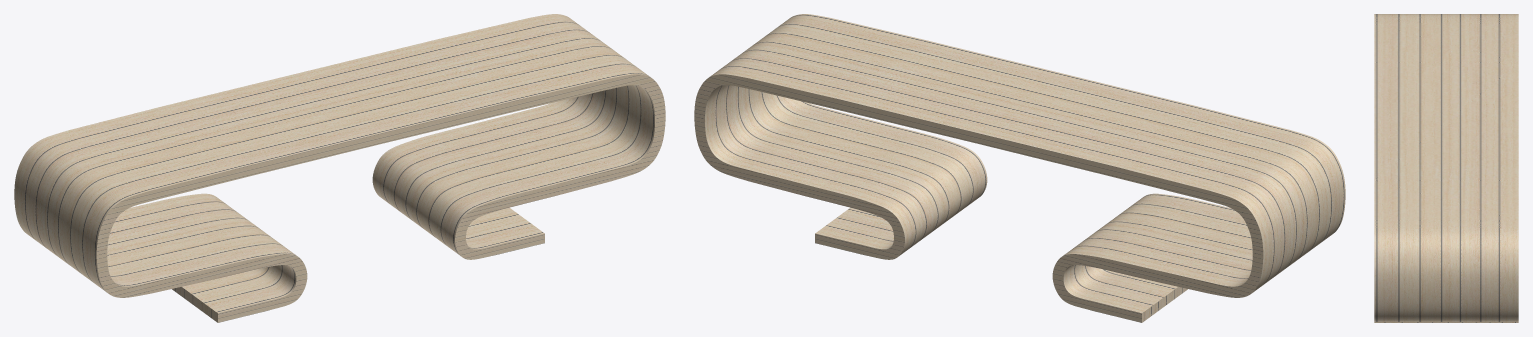
File: Bench_01.FBX
3 renders of one model, left to right at view 1: azimuth 30°, elevation 25°; view 2: azimuth 150°, elevation 25°; view 3: azimuth 270°, elevation 25°, orthographic. The views are drawn at different scales.
Visible parts, largest first — view 1: Bench_01; view 2: Bench_01; view 3: Bench_01.
Boxes of the visible parts, x1,y1,x2,y2 form: Bench_01: [14, 14, 665, 322]; Bench_01: [694, 14, 1345, 322]; Bench_01: [1374, 14, 1518, 322].
Size of the model in its own units: 118 by 29.53 by 29.6.
